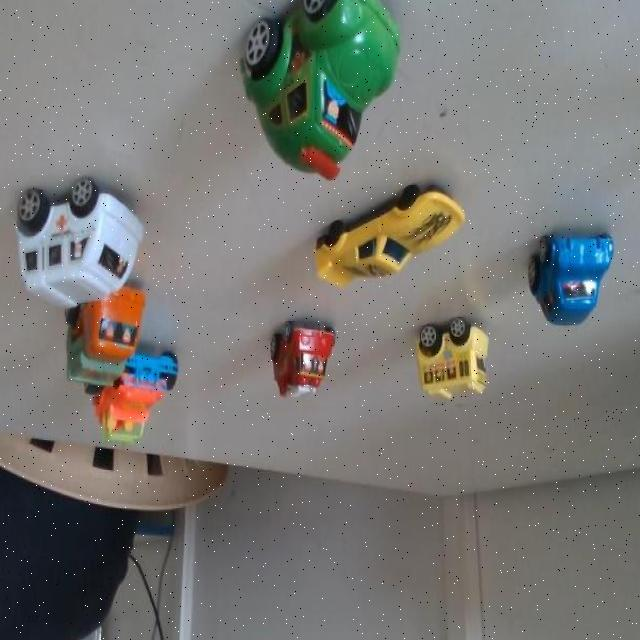car: (244, 0, 410, 175), (17, 155, 157, 329), (321, 173, 457, 299), (408, 304, 496, 404), (104, 345, 187, 450), (537, 223, 618, 330), (72, 279, 140, 396), (261, 305, 335, 410)
